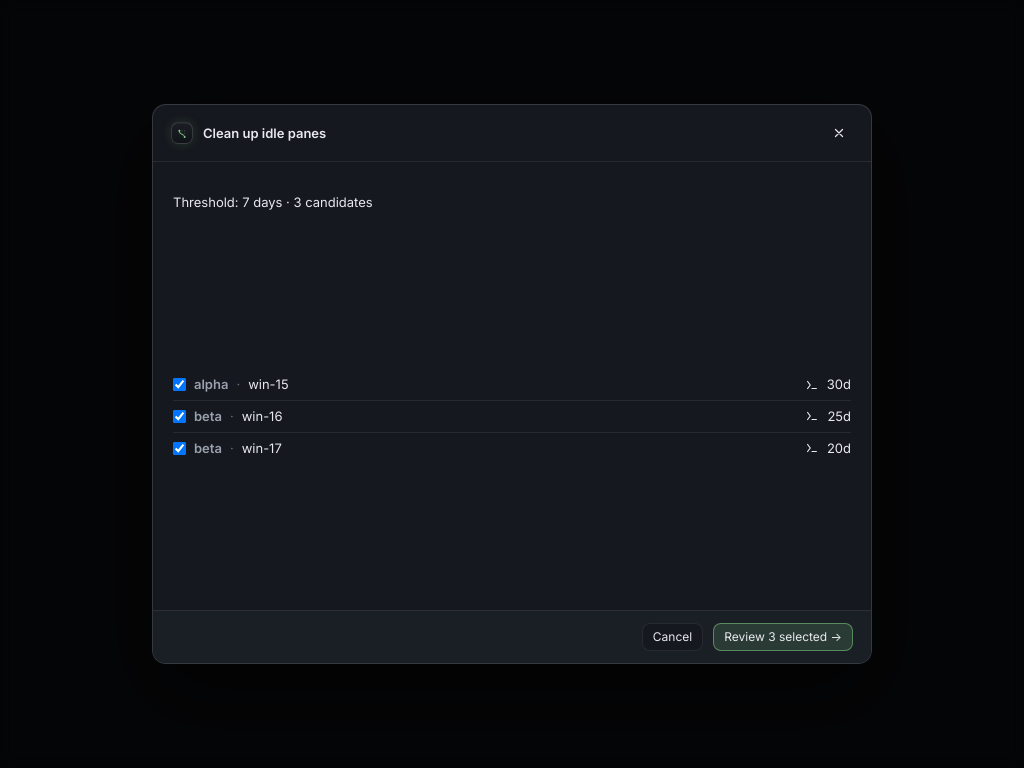
Test: CleanupModal — Step 2 (Confirm) › shows the last-window hint when the selection covers all windows of a session
// Uncheck the two `beta` rows, keep `alpha` checked.
Click the checkbox labelled "beta · win-16 25d" at (180, 416), box [173,410,186,423]
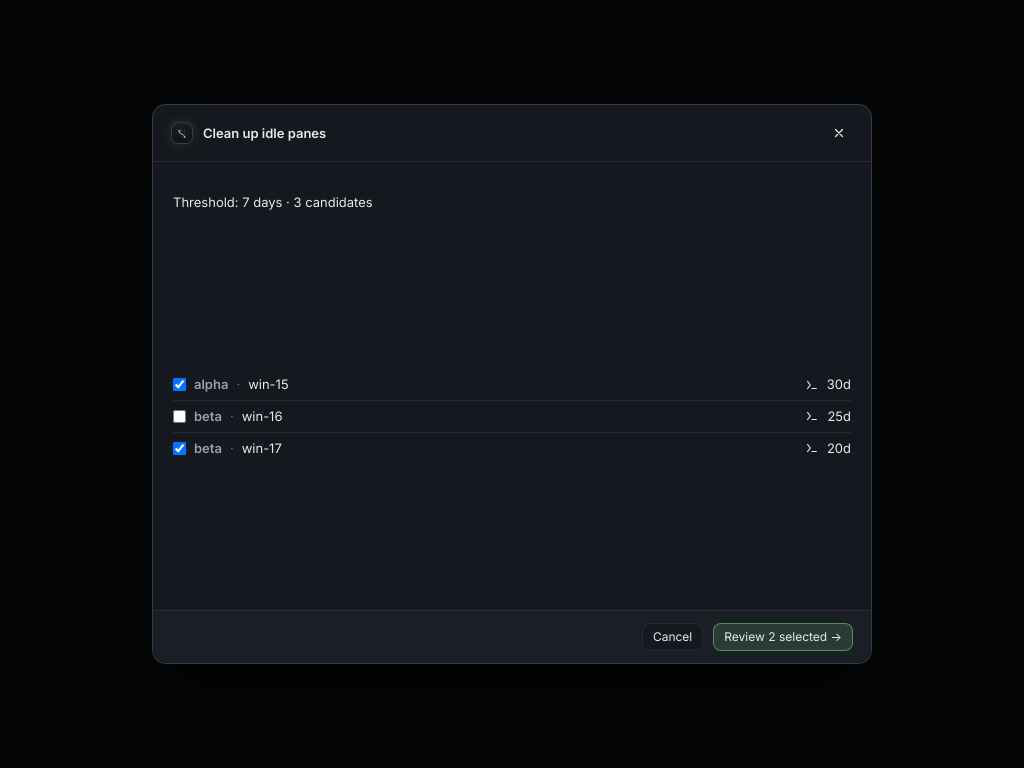
Click the checkbox labelled "beta · win-17 20d" at (180, 448), box [173,442,186,455]
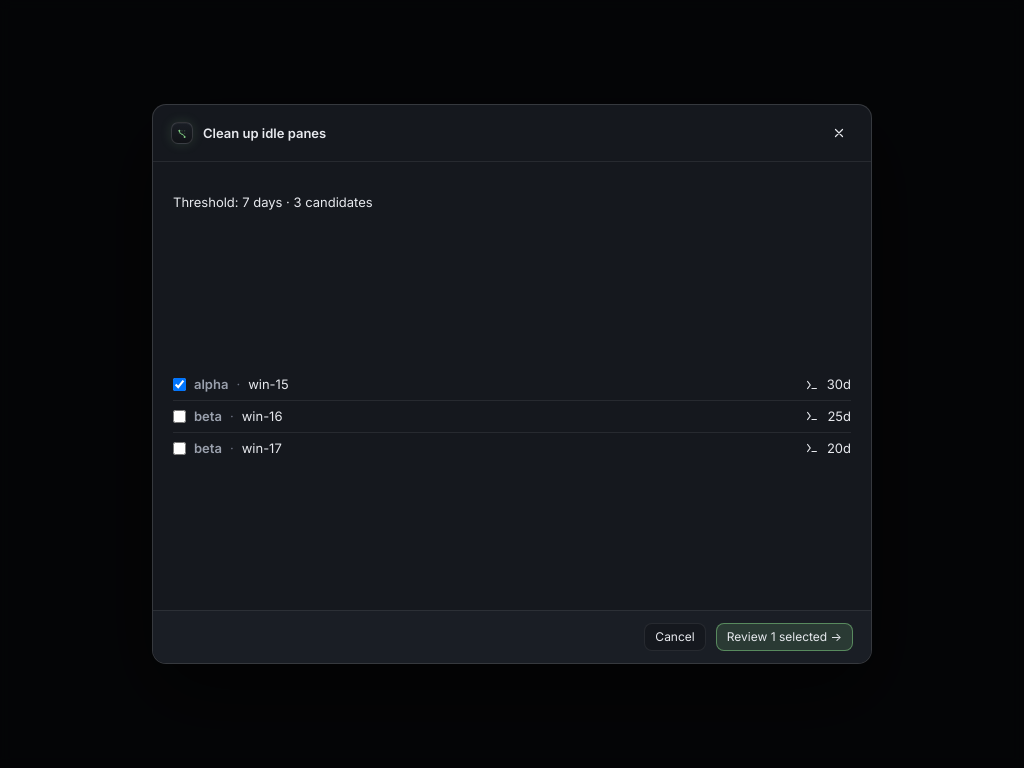
Click the button "Review 1 selected →" at (784, 637), box [716,623,853,651]
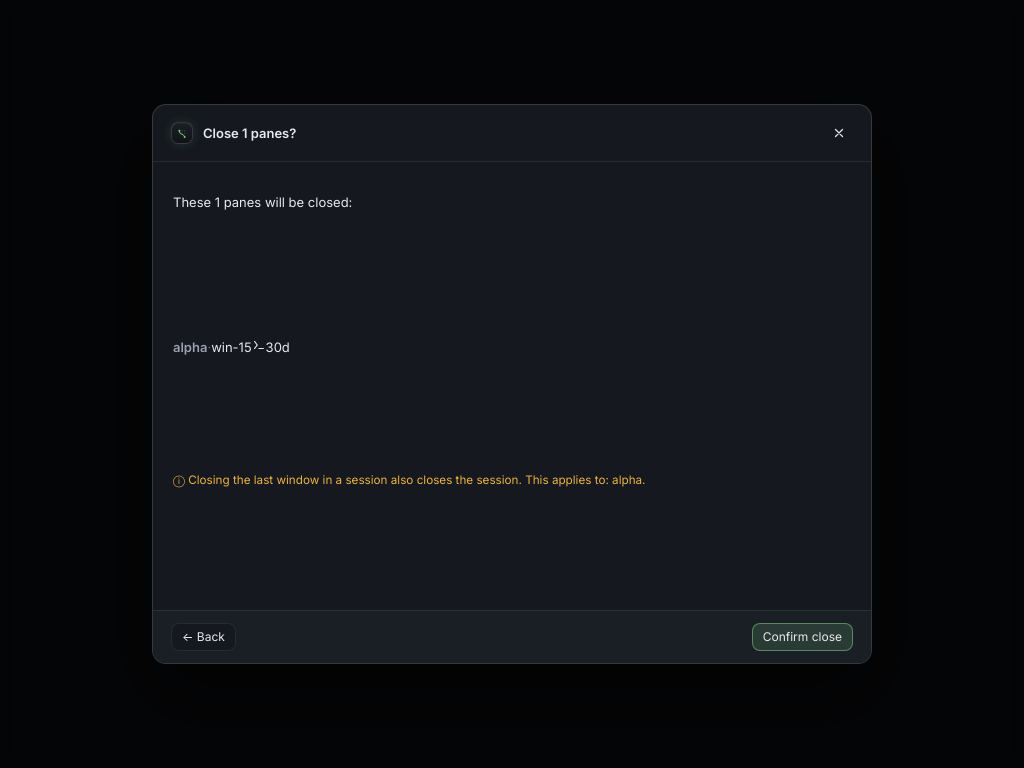
expect the text "closes the session" shows "alpha": met, box [612,473,642,487]
